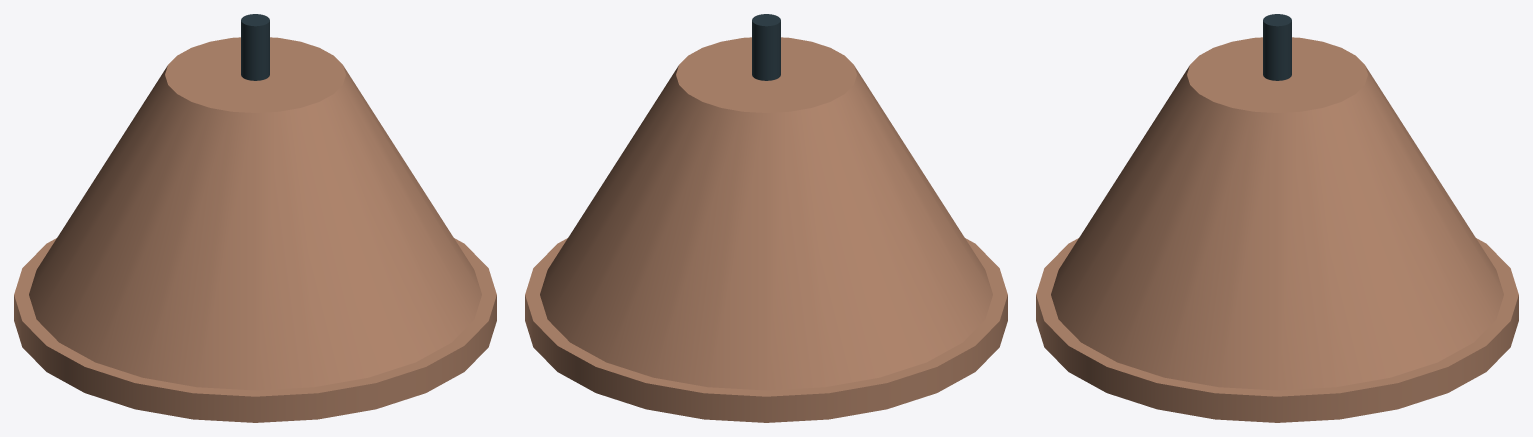
The model's file is pendant.glb.
The picture shows the model from 3 angles, left to right: view 1: azimuth 30°, elevation 25°; view 2: azimuth 150°, elevation 25°; view 3: azimuth 270°, elevation 25°; orthographic projection.
Visible parts, largest first — view 1: poc-pendant-part-44, poc-pendant-part-45, poc-pendant-part-46; view 2: poc-pendant-part-44, poc-pendant-part-45, poc-pendant-part-46; view 3: poc-pendant-part-44, poc-pendant-part-45, poc-pendant-part-46.
Part boxes in pixels (x1,y1,x2,y2): poc-pendant-part-44: (29, 37, 481, 390); poc-pendant-part-45: (14, 238, 496, 422); poc-pendant-part-46: (241, 14, 269, 80); poc-pendant-part-44: (540, 37, 992, 390); poc-pendant-part-45: (525, 238, 1007, 422); poc-pendant-part-46: (752, 14, 780, 80); poc-pendant-part-44: (1051, 37, 1503, 390); poc-pendant-part-45: (1036, 238, 1518, 422); poc-pendant-part-46: (1263, 14, 1291, 80).
Bounding box in the file's own units: 0.4 × 0.3 × 0.4.
